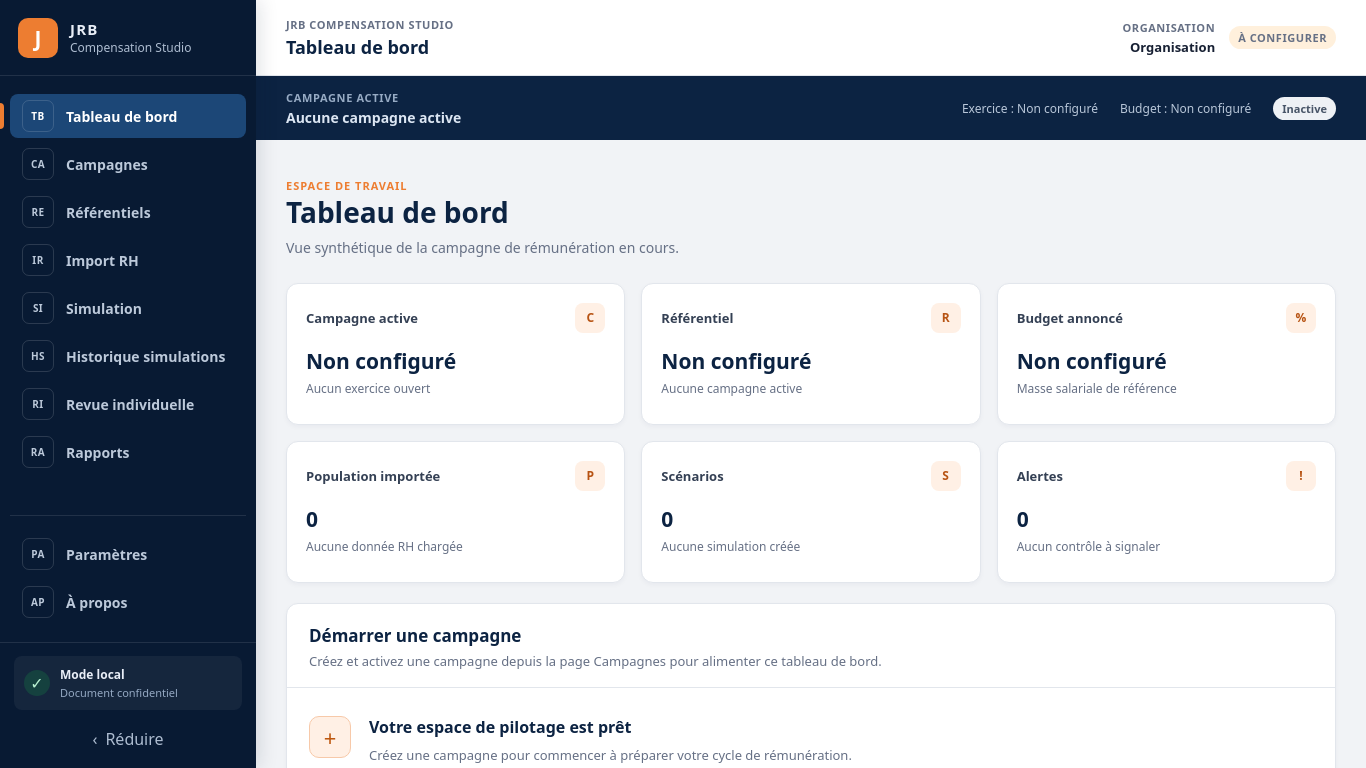
Scenario: Lot 2B-UX1 — layout résultats › déploie la sidebar par défaut et la réduit / redéploie (aria-expanded)
expect the navigation bar named "Navigation principale" is shown: met, box top-left (0, 76), bottom-right (256, 642)
Click the button with test id "sidebar-toggle" at {"x": 128, "y": 739}, box top-left (10, 720), bottom-right (246, 758)
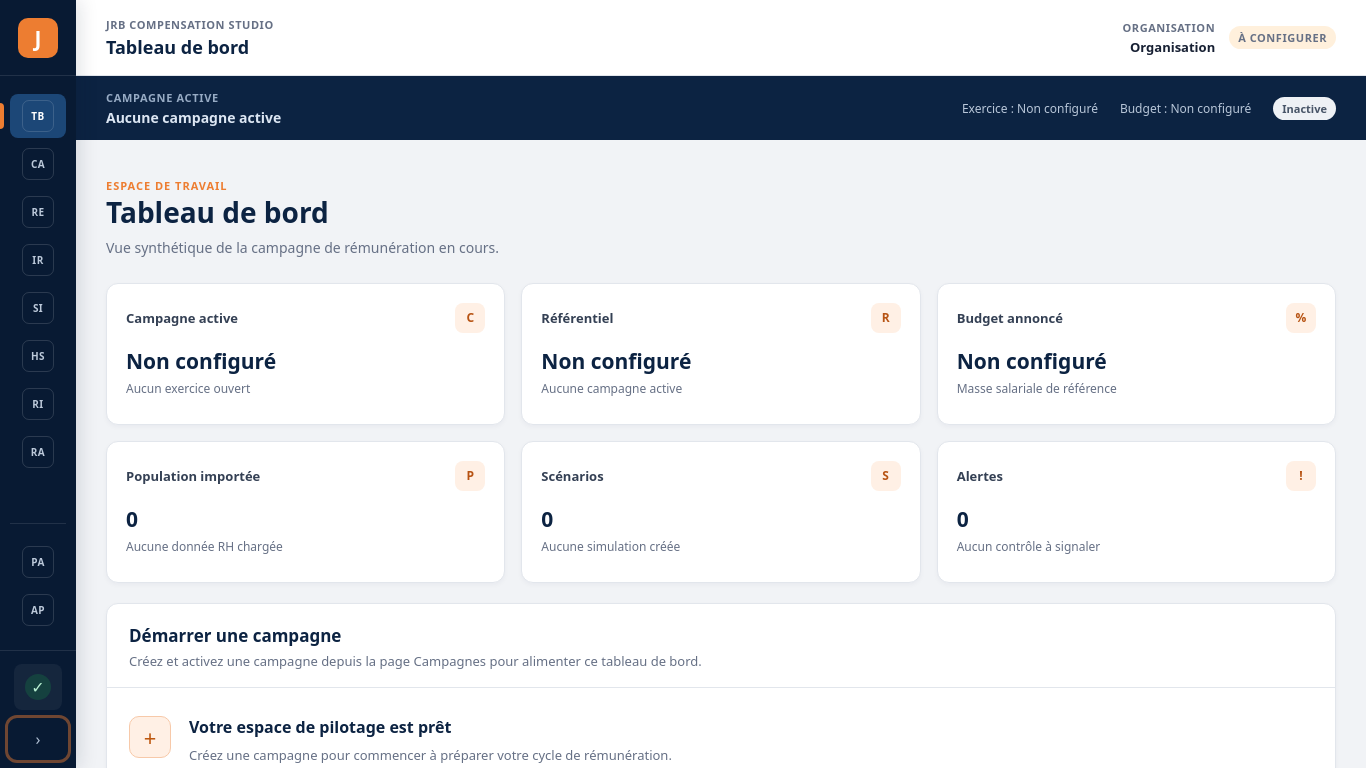
expect the element with test id "app-sidebar" has attribute data-collapsed="true": met, box top-left (0, 0), bottom-right (76, 767)
Click the button with test id "sidebar-toggle" at {"x": 38, "y": 739}, box top-left (10, 720), bottom-right (66, 758)
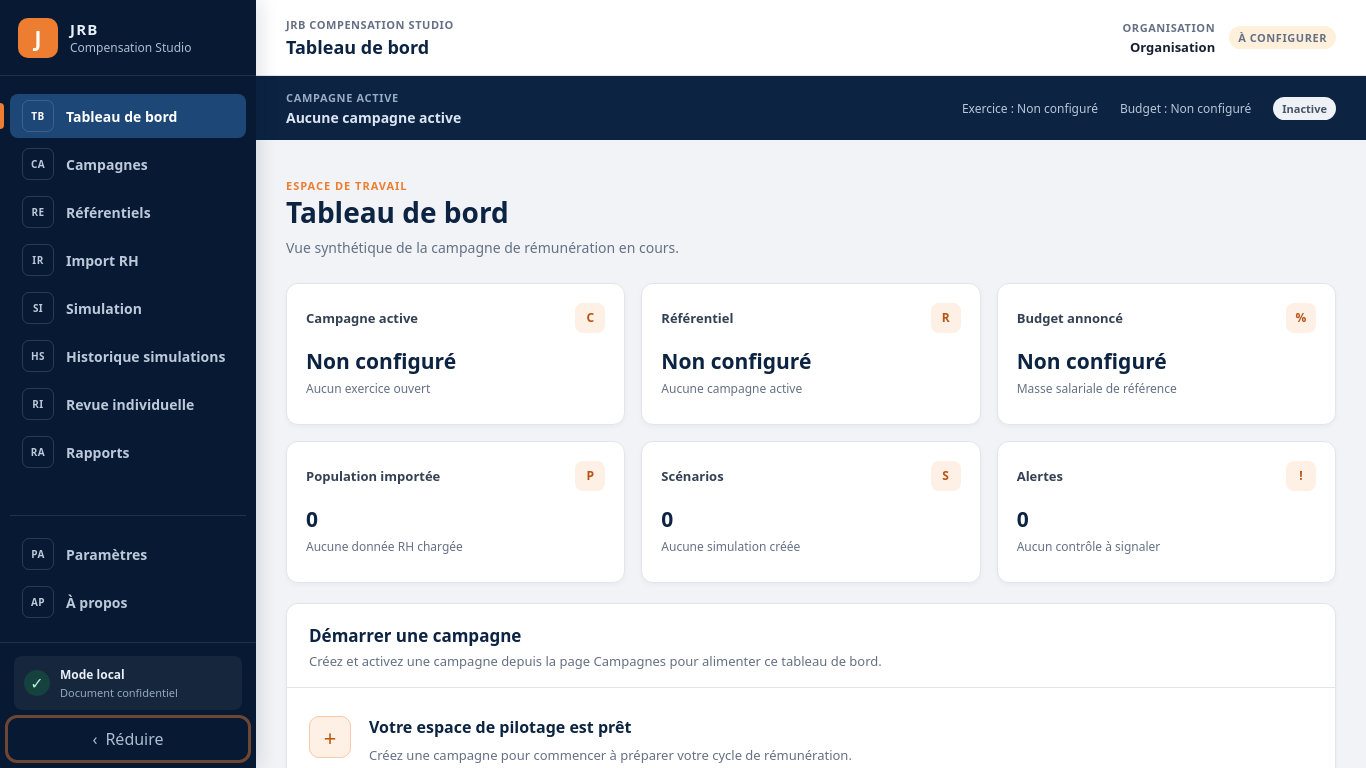
expect the button with test id "sidebar-toggle" is expanded: met, box top-left (10, 720), bottom-right (246, 758)
